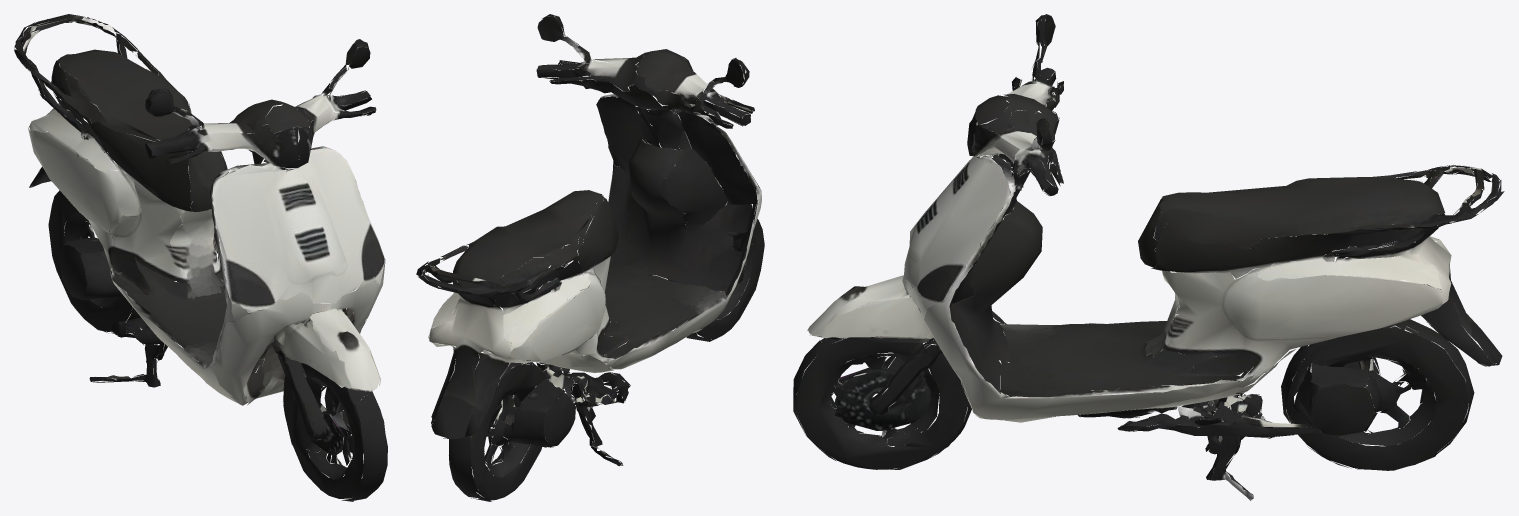
Rendered from scooter.glb.
3 views of the same model, side by side, from view 1: azimuth 30°, elevation 25°; view 2: azimuth 150°, elevation 25°; view 3: azimuth 270°, elevation 25° (orthographic). The views are drawn at different scales.
Parts seen in each view (by area): view 1: scooter; view 2: scooter; view 3: scooter.
Boxes of the visible parts, <box> form: scooter: <box>14,14,387,501</box>; scooter: <box>416,14,764,501</box>; scooter: <box>793,14,1504,500</box>.
Bounding box in the file's own units: 0.72 × 1.15 × 1.85.
Materials: 1 (1 with a texture image).
